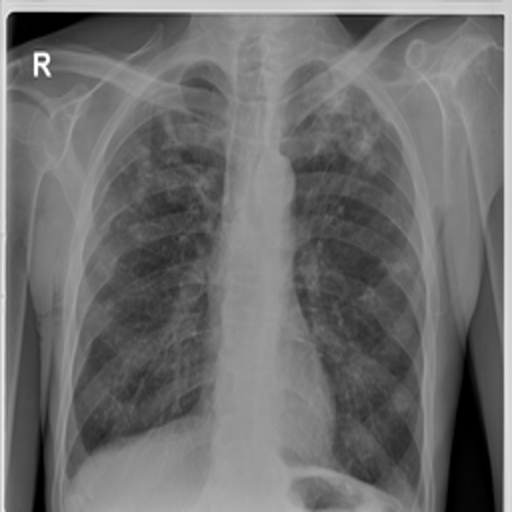TB: (123, 142, 204, 258), (307, 84, 384, 166)
